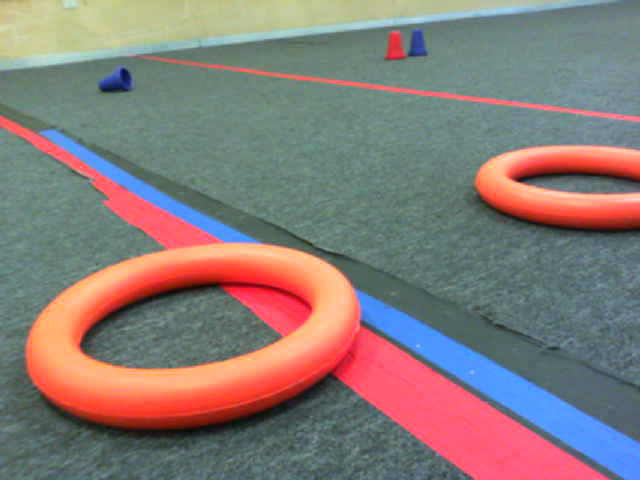Note: (30, 246, 367, 438)
